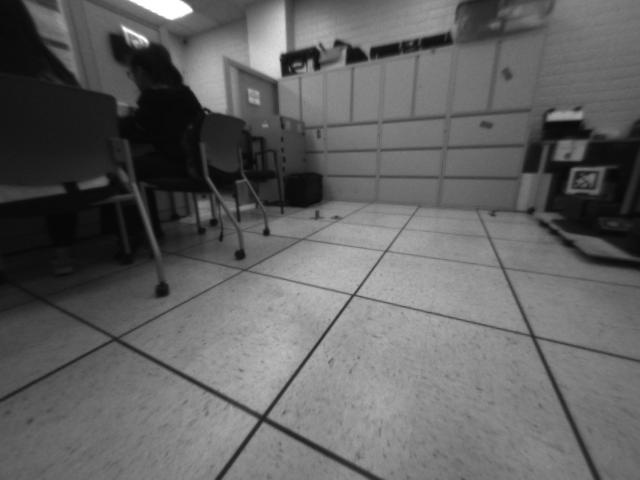X: (308, 208, 326, 222)
